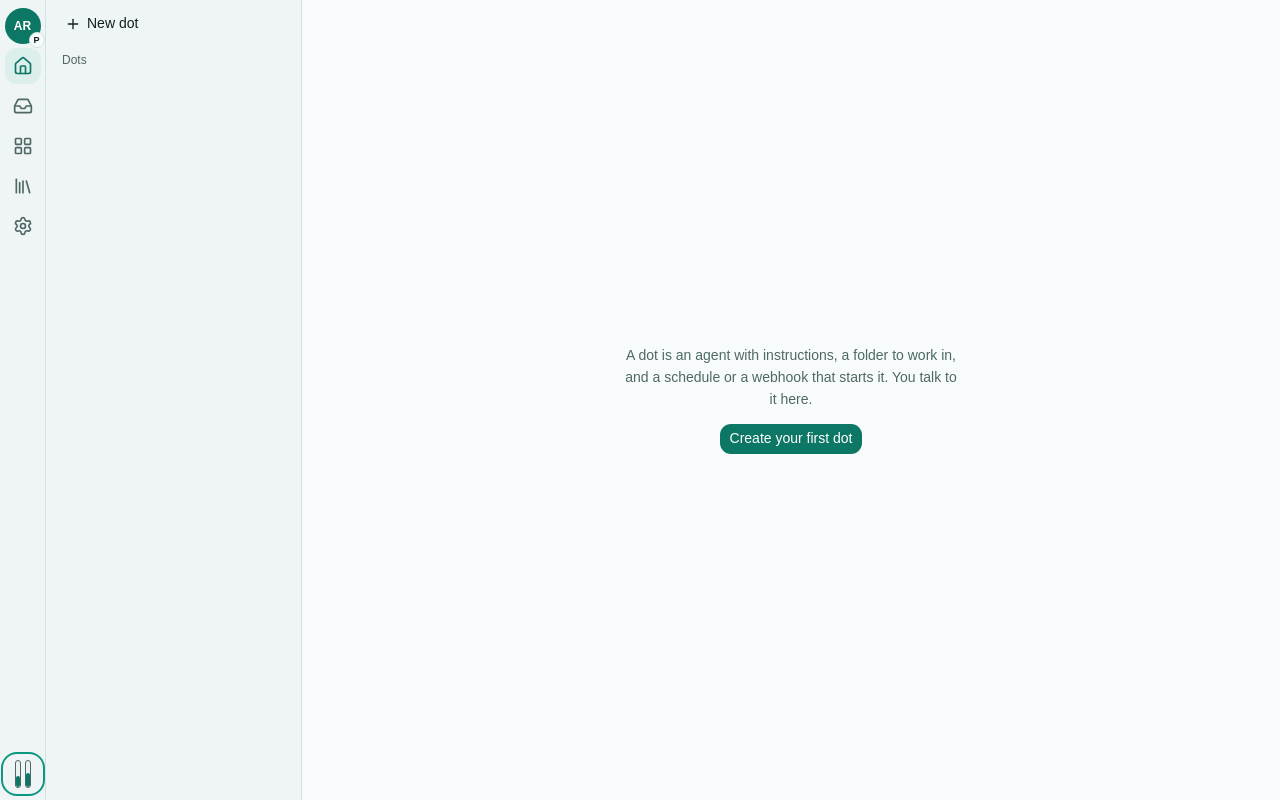
it: the rail's Claude usage bars › open the Usage page, and Tab reaches them
Click the link named "Claude usage".
click(22, 774)  # box [14,760,30,788]
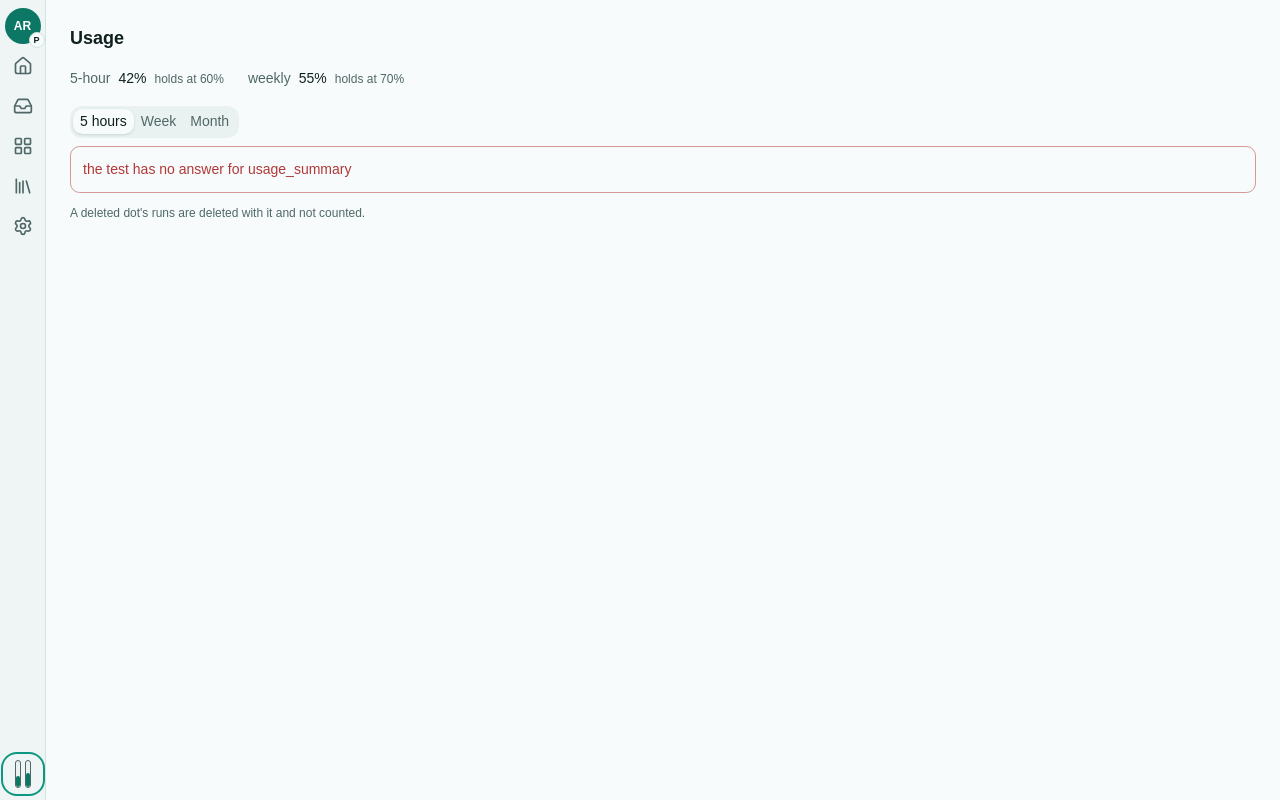
Expected: the heading "Usage" is shown, [70,28,124,48]
